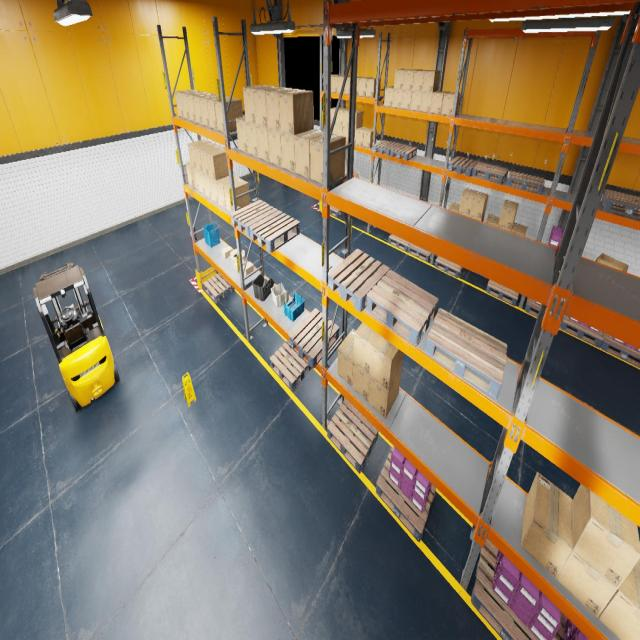box: (557, 500, 617, 618), (573, 484, 640, 589), (521, 472, 572, 579), (598, 559, 640, 639), (370, 336, 403, 390), (368, 366, 402, 418), (310, 134, 345, 184), (279, 90, 313, 135), (294, 130, 323, 178), (266, 88, 298, 131), (354, 322, 379, 374), (254, 86, 284, 127), (243, 85, 272, 124), (338, 329, 356, 386), (214, 98, 243, 133), (223, 178, 250, 213), (206, 96, 230, 130), (216, 175, 240, 209), (192, 93, 217, 124), (352, 361, 370, 402), (206, 148, 229, 180), (186, 92, 210, 122), (199, 145, 222, 176), (193, 142, 216, 172), (180, 90, 202, 120), (188, 139, 210, 169), (595, 254, 629, 272), (175, 89, 196, 118), (199, 95, 218, 127), (280, 132, 295, 172), (268, 128, 282, 167), (499, 200, 518, 228), (470, 191, 488, 219), (256, 125, 269, 162), (459, 188, 477, 214), (246, 122, 258, 158), (236, 117, 248, 153), (430, 90, 448, 114), (441, 92, 459, 115), (422, 70, 440, 92), (412, 70, 429, 92), (403, 69, 419, 90), (362, 128, 377, 148), (394, 69, 408, 89), (366, 78, 380, 97), (202, 173, 212, 199), (356, 127, 369, 146), (358, 77, 371, 96), (209, 177, 218, 204), (410, 90, 422, 110), (420, 92, 432, 112), (337, 76, 350, 93), (401, 90, 412, 110), (336, 108, 348, 126), (512, 223, 528, 236), (331, 76, 344, 92), (197, 170, 205, 195), (191, 166, 199, 191), (384, 86, 394, 106), (330, 108, 342, 124), (392, 89, 402, 108), (186, 161, 193, 187), (485, 214, 500, 226), (242, 261, 254, 275), (234, 259, 245, 273), (355, 110, 363, 129), (356, 76, 364, 95), (470, 212, 484, 222), (234, 250, 245, 262), (448, 202, 460, 213), (222, 246, 232, 258), (344, 76, 350, 95), (342, 109, 348, 127), (346, 170, 358, 178), (342, 126, 348, 142), (498, 225, 513, 231), (331, 75, 336, 92), (230, 248, 237, 260), (336, 125, 342, 136), (330, 124, 336, 134), (458, 212, 469, 216), (354, 129, 356, 144)
forklift: (33, 262, 120, 411)
pallets: (425, 308, 507, 401), (471, 538, 538, 640), (376, 445, 436, 542), (366, 270, 438, 346), (328, 249, 390, 312), (327, 398, 378, 473), (289, 308, 339, 368), (249, 210, 300, 252), (270, 340, 311, 391), (230, 200, 278, 237), (600, 332, 640, 368), (560, 314, 603, 347), (524, 297, 562, 328), (602, 189, 640, 219), (202, 272, 235, 302), (506, 171, 545, 194), (486, 280, 518, 306), (472, 162, 508, 184), (434, 256, 463, 278), (448, 156, 479, 176), (390, 144, 417, 161), (408, 243, 432, 262), (373, 140, 399, 156), (552, 612, 566, 640), (388, 234, 410, 251), (330, 206, 342, 217), (423, 200, 438, 206)
